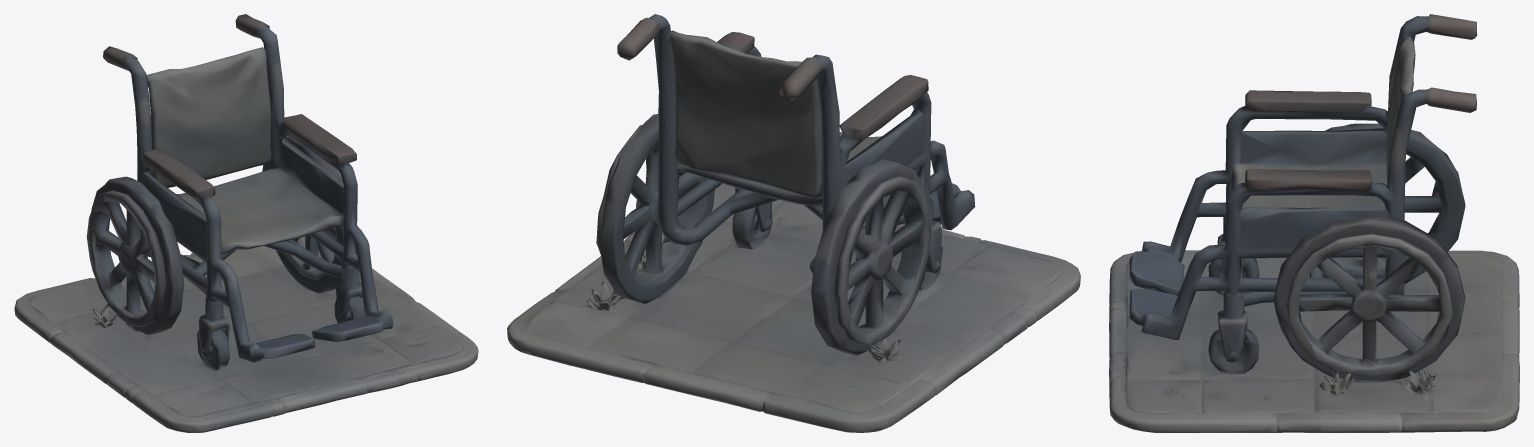
File: hospital_wheelchair.glb
3 views of the same model, side by side, from view 1: azimuth 30°, elevation 25°; view 2: azimuth 150°, elevation 25°; view 3: azimuth 270°, elevation 25° (orthographic). The views are drawn at different scales.
Parts seen in each view (by area): view 1: tripo_node_7d358261-e806-4244-a1d0-e83a302286ad; view 2: tripo_node_7d358261-e806-4244-a1d0-e83a302286ad; view 3: tripo_node_7d358261-e806-4244-a1d0-e83a302286ad.
Part boxes in pixels (left/top/right/bottom): tripo_node_7d358261-e806-4244-a1d0-e83a302286ad: left=14, top=14, right=478, bottom=432; tripo_node_7d358261-e806-4244-a1d0-e83a302286ad: left=507, top=14, right=1080, bottom=432; tripo_node_7d358261-e806-4244-a1d0-e83a302286ad: left=1109, top=14, right=1519, bottom=432.
Size of the model in its own units: 1 by 0.7985 by 1.
1 material, 1 textured.
